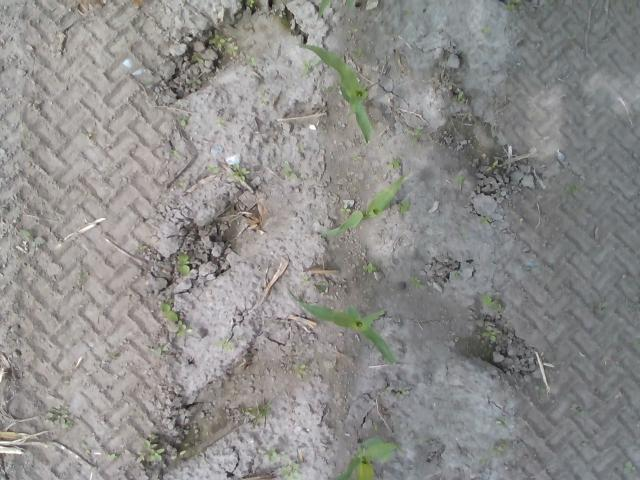Maize: (283, 284, 397, 367), (298, 39, 376, 146), (318, 174, 406, 238), (331, 432, 399, 479)
Weeds: (159, 301, 184, 334), (211, 34, 239, 58), (141, 438, 164, 464), (243, 400, 272, 420), (19, 228, 46, 248), (46, 406, 70, 428), (149, 344, 177, 362), (480, 324, 502, 342), (482, 292, 502, 311), (280, 463, 302, 480), (174, 253, 190, 274), (229, 166, 250, 182), (407, 124, 424, 142), (491, 439, 508, 457), (620, 459, 637, 477), (452, 86, 468, 105), (262, 446, 280, 460), (280, 166, 298, 180), (293, 362, 307, 378), (408, 276, 424, 290), (488, 158, 504, 172), (359, 260, 376, 273), (190, 52, 208, 64), (302, 59, 315, 75), (338, 202, 354, 214), (400, 197, 410, 215), (506, 0, 522, 11), (562, 182, 578, 193), (184, 77, 203, 86), (105, 451, 120, 460), (479, 212, 490, 224), (453, 174, 465, 185), (219, 339, 232, 349), (388, 158, 399, 169), (167, 147, 179, 157), (179, 119, 187, 128), (247, 0, 256, 8)
